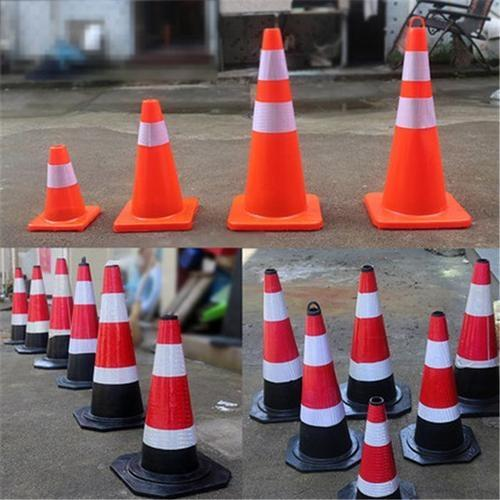cone_barrel: (366, 25, 464, 225), (225, 30, 319, 231), (125, 317, 212, 491), (81, 261, 149, 431), (286, 306, 354, 476), (405, 307, 473, 466), (114, 101, 193, 231), (340, 267, 404, 414), (247, 269, 304, 419), (451, 255, 498, 403), (22, 143, 96, 231), (347, 398, 406, 497), (62, 258, 99, 381), (43, 251, 75, 358), (22, 261, 51, 350), (7, 264, 27, 340)
